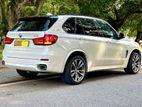car: (2, 14, 141, 84)
